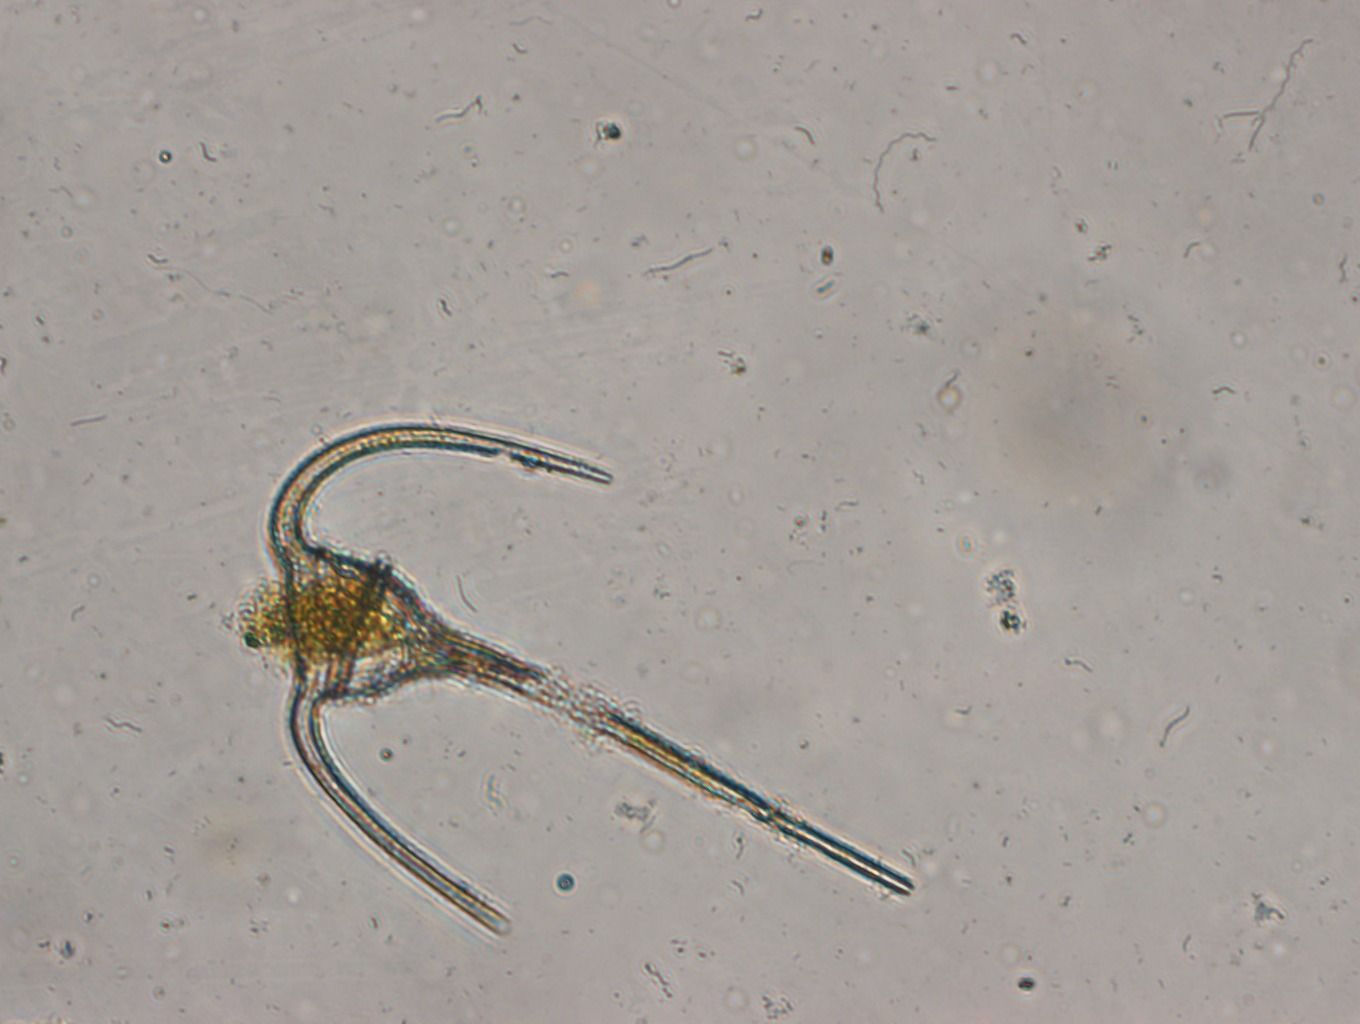ceratium trichoceros: (252, 395, 924, 952)
